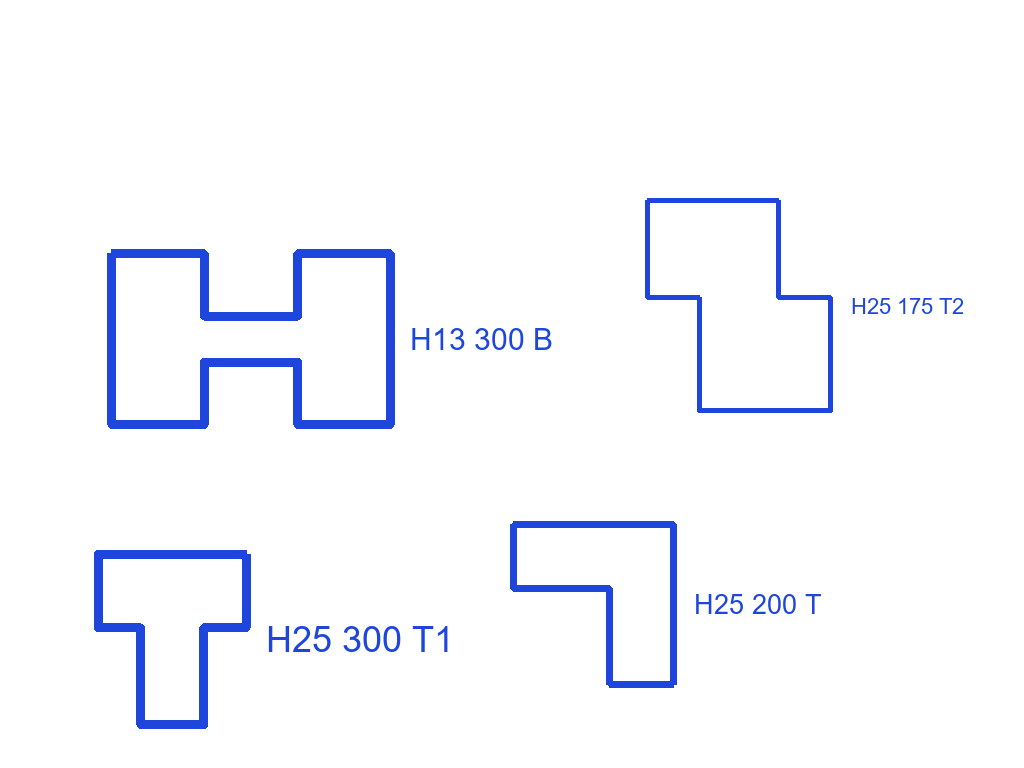shape: (105, 247, 397, 431), (643, 196, 835, 415), (92, 548, 253, 731), (508, 519, 679, 690)
text: (264, 624, 456, 654), (408, 326, 555, 352), (692, 592, 824, 616), (849, 296, 966, 316)
